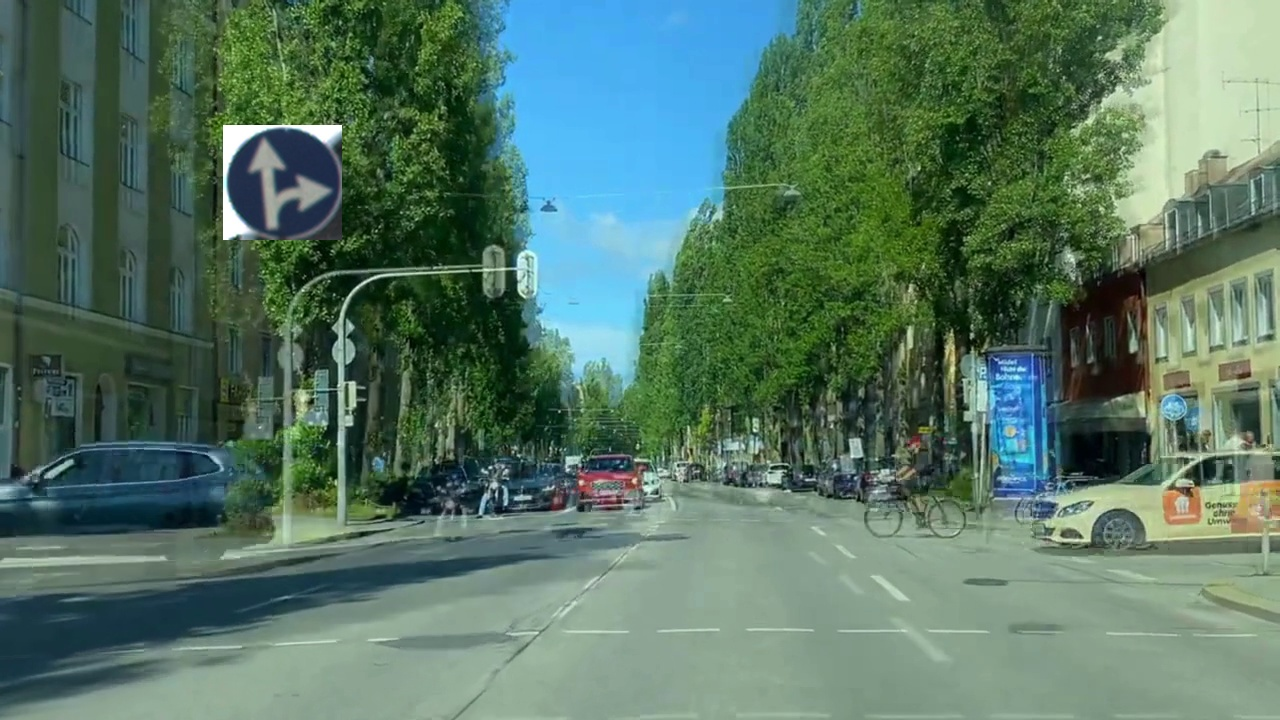Straight/right: (223, 125, 342, 240)
